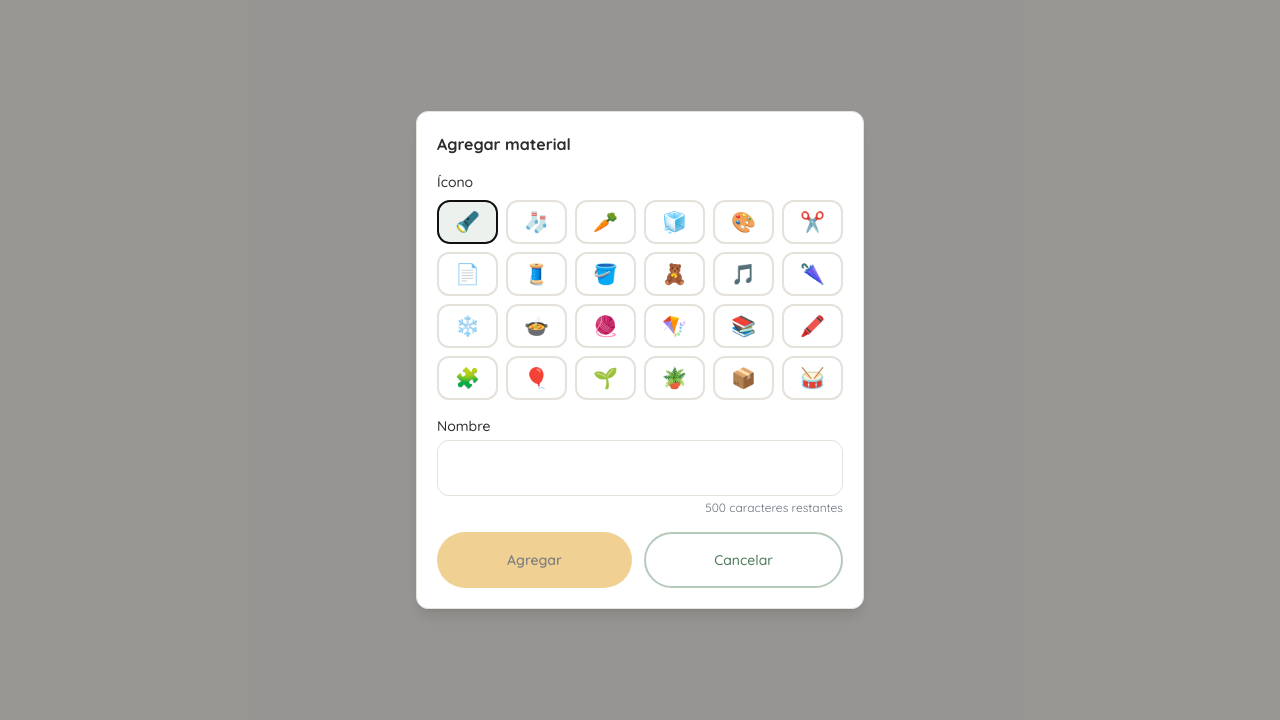
Test: AgregarMaterialForm › permite reintentar después de un error
Type "Cartulina" into the field labelled "Nombre" at (640, 468), box [437, 440, 843, 496]
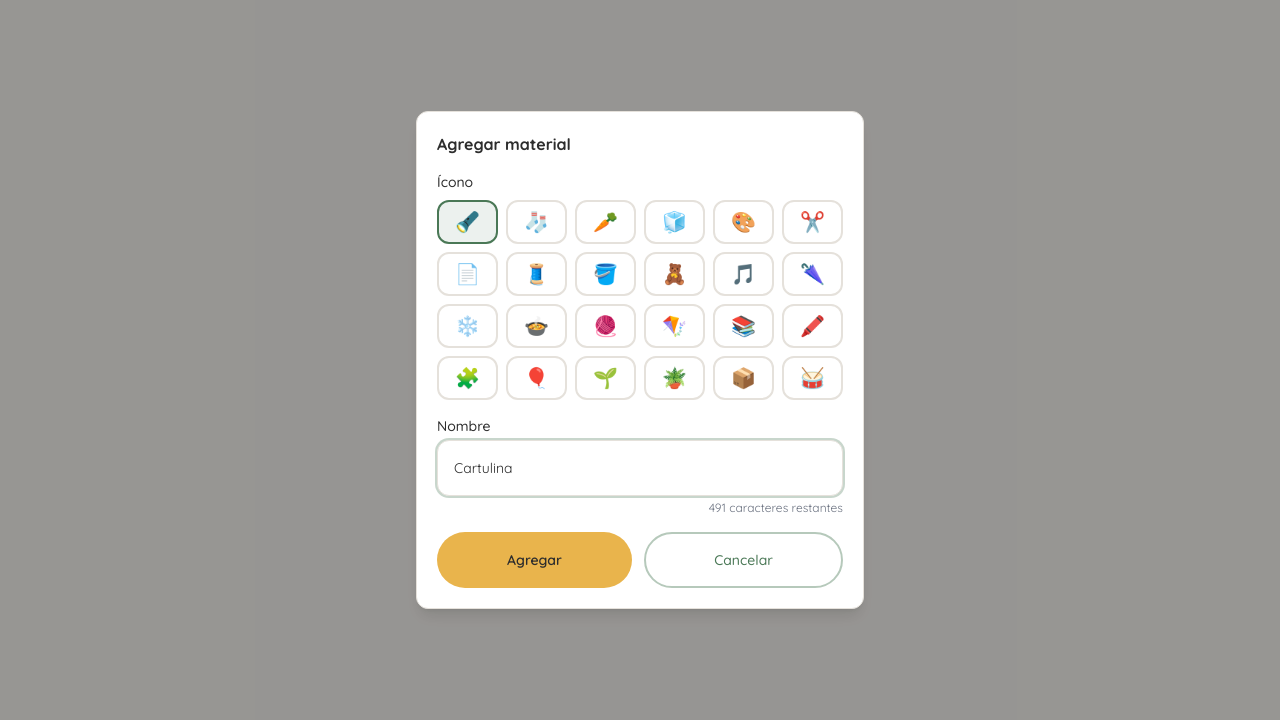
Click the button "Agregar" at (534, 560), box [437, 532, 632, 588]
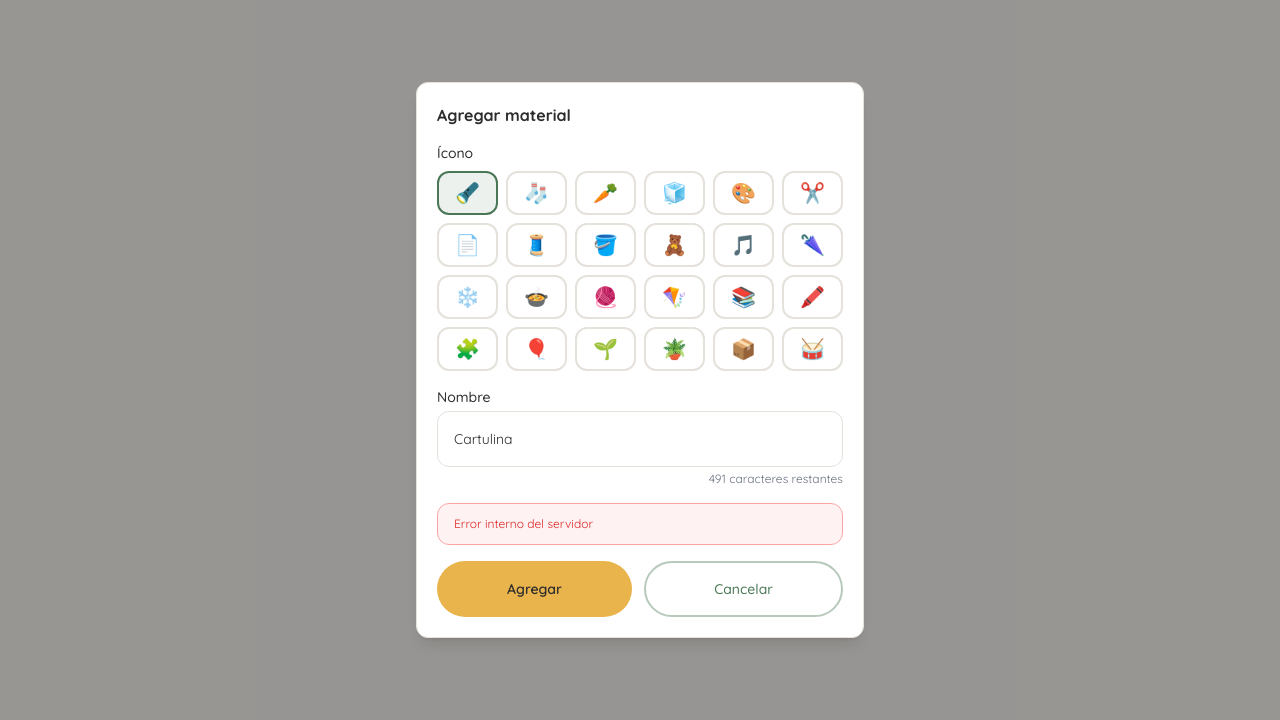
Expected: the message "Error interno del servidor" is shown, [437, 503, 843, 545]
Click the button "Agregar" at (534, 589), box [437, 561, 632, 617]
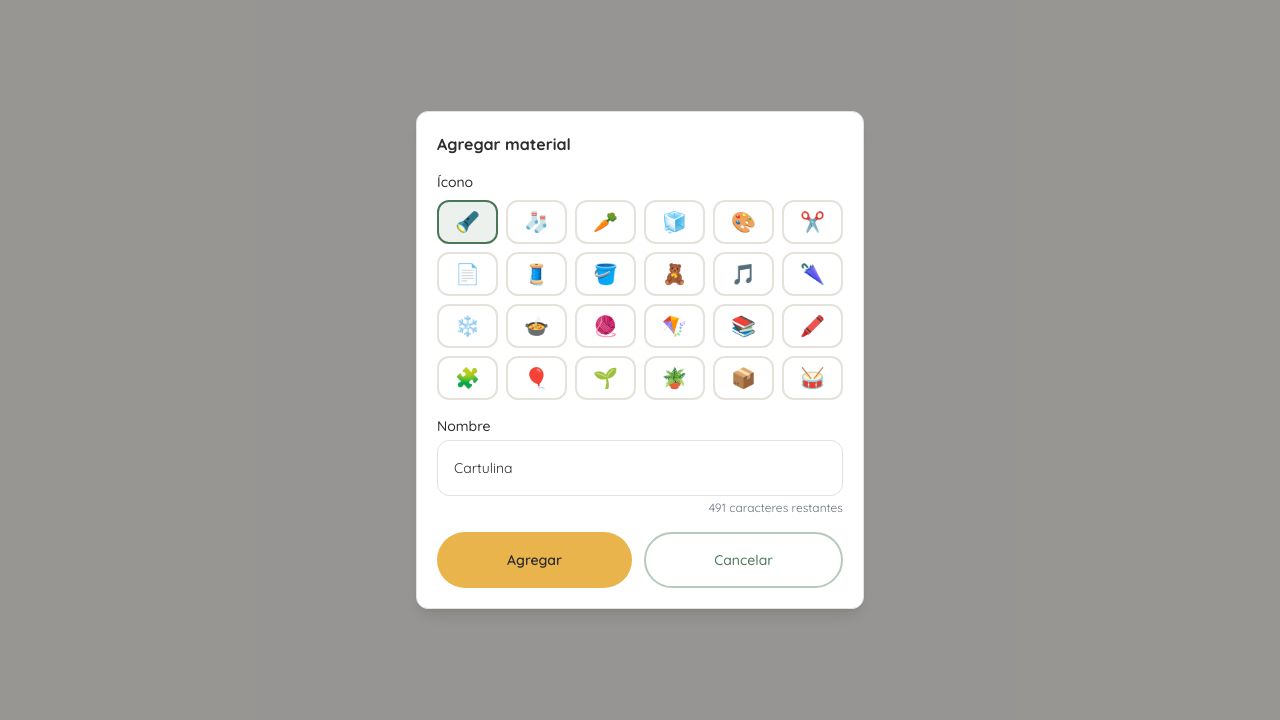
Expected: the message "Error interno del servidor" is gone
